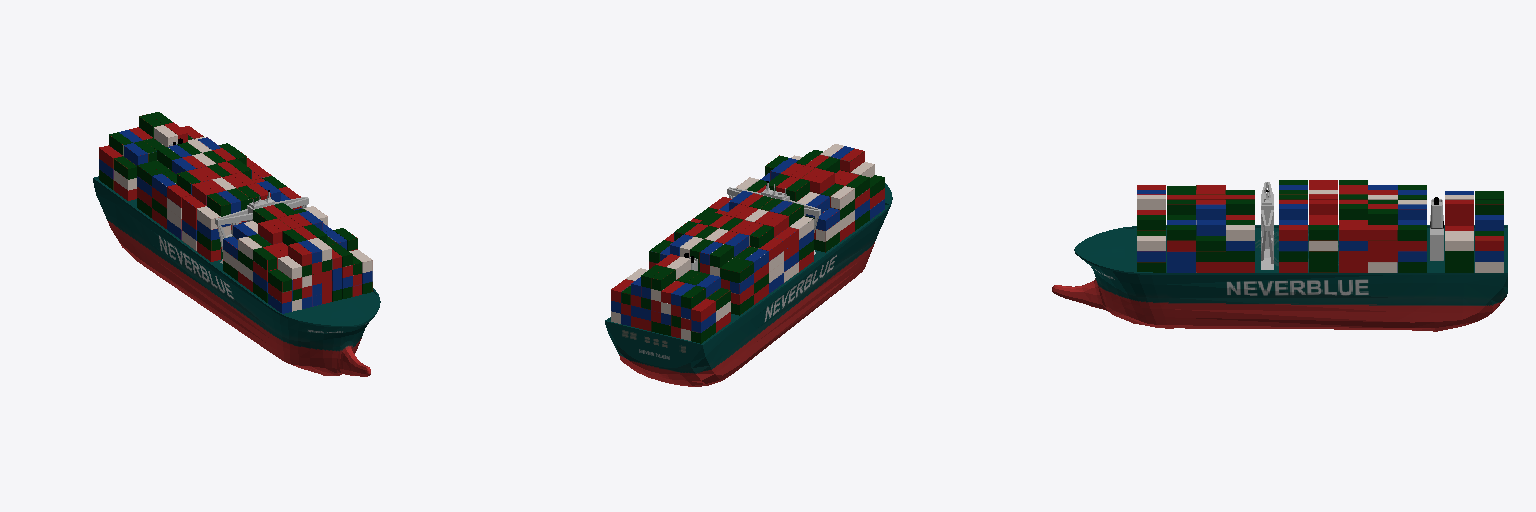
The picture shows the model from 3 angles: view 1: azimuth 30°, elevation 25°; view 2: azimuth 150°, elevation 25°; view 3: azimuth 270°, elevation 25°; orthographic projection.
Parts seen in each view (by area): view 1: Ship_Plane; view 2: Ship_Plane; view 3: Ship_Plane.
Boxes of the visible parts, x1=… form: Ship_Plane: x1=93, y1=112, x2=380, y2=376; Ship_Plane: x1=605, y1=144, x2=892, y2=386; Ship_Plane: x1=1052, y1=180, x2=1507, y2=331.
Bounding box in the file's own units: 2 × 2.75 × 8.06.
2 materials, 2 textured.